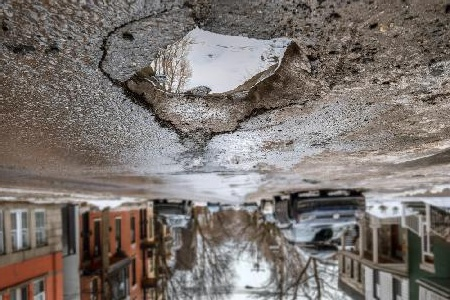pothole: (118, 27, 307, 141), (398, 145, 449, 170)
